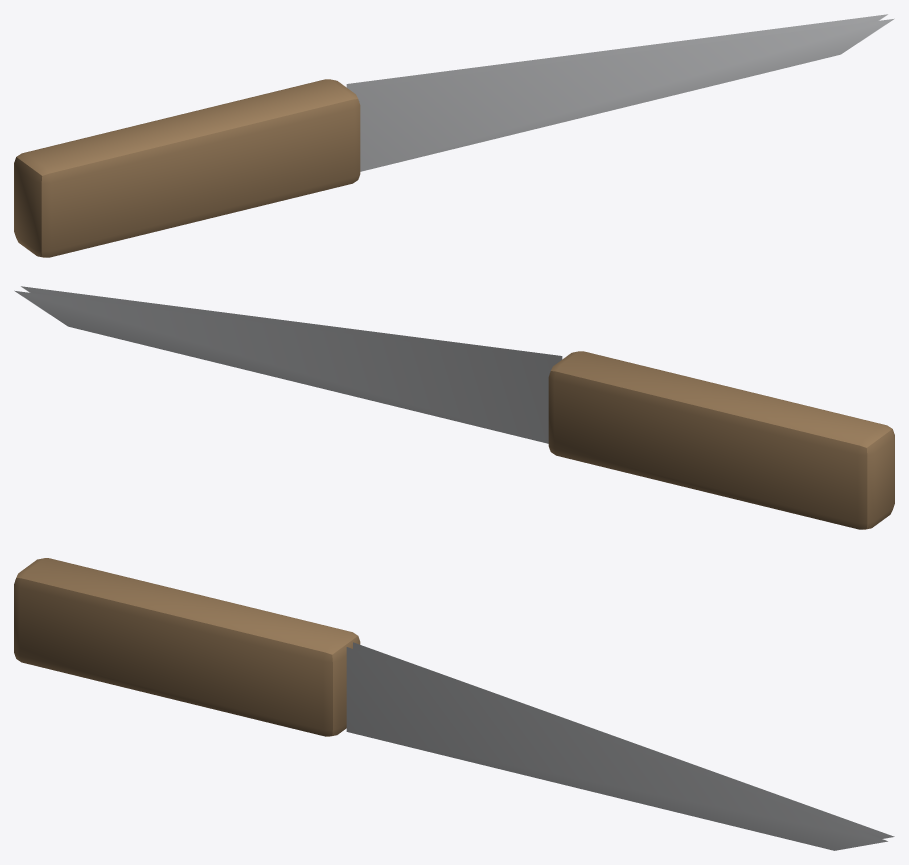
The model's file is knife.glb.
The picture shows the model from 3 angles, top to bottom: view 1: azimuth 30°, elevation 25°; view 2: azimuth 150°, elevation 25°; view 3: azimuth 330°, elevation 25°; orthographic projection.
Parts seen in each view (by area): view 1: boat_wood2, boat_steel2; view 2: boat_wood2, boat_steel2; view 3: boat_wood2, boat_steel2.
Boxes of the visible parts, box(x1,y1,x2,y2) form: boat_wood2: box(14, 79, 360, 257); boat_steel2: box(346, 14, 894, 171); boat_wood2: box(548, 351, 894, 529); boat_steel2: box(14, 286, 562, 443); boat_wood2: box(14, 558, 360, 736); boat_steel2: box(346, 642, 894, 850).
Size of the model in its own units: 0.32 by 0.032 by 0.02.
